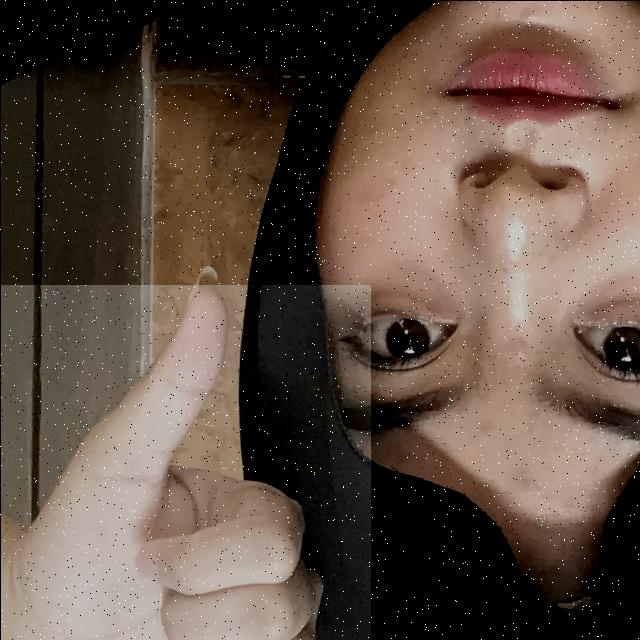sedih: (0, 284, 370, 640)
